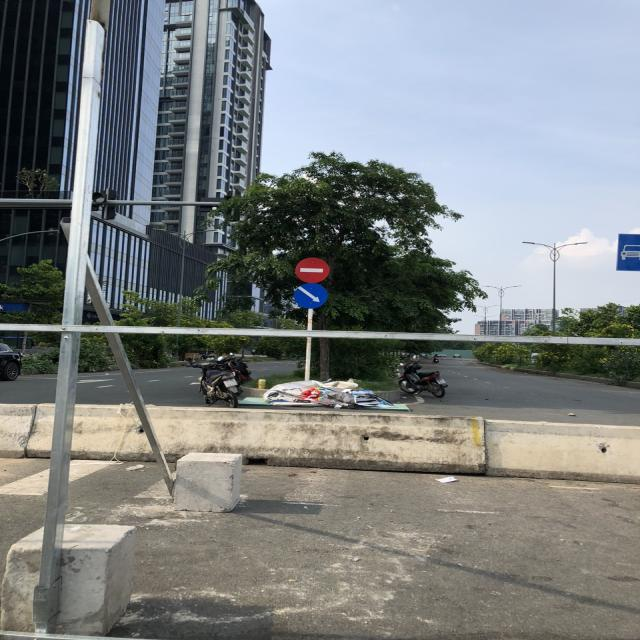Bien bao cam di nguoc chieu: (290, 254, 334, 286)
